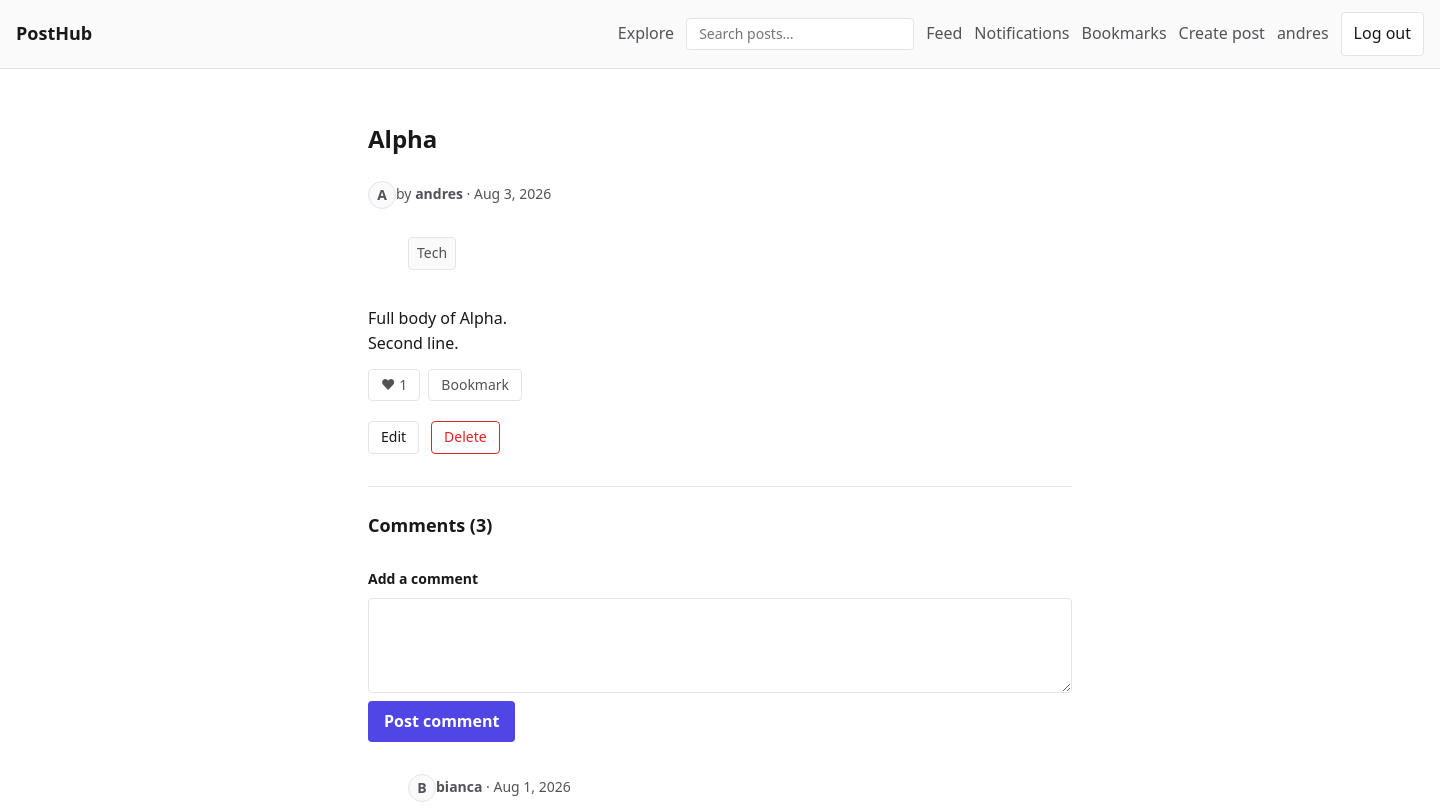
Scenario: Post detail › lets an authenticated user post a comment, which appears and bumps the count
The image size is (1440, 810).
Check: the heading "Comments (3)" is shown, box top-left (368, 513), bottom-right (492, 537)
Type "A brand new comment" into the text box labelled "Add a comment".
click(720, 645); type("A brand new comment")  # box top-left (368, 598), bottom-right (1072, 693)
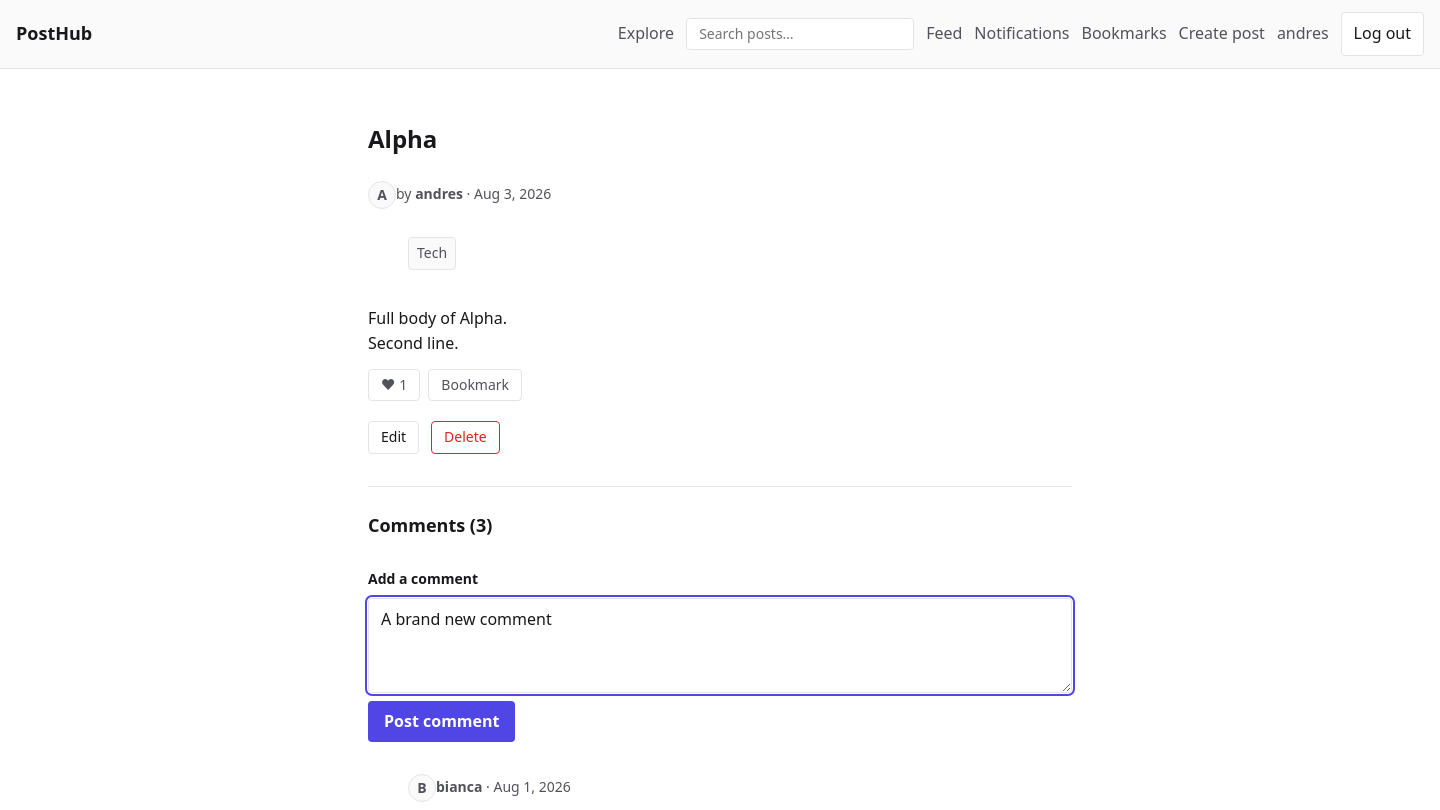
Click the button "Post comment".
click(442, 722)  # box top-left (368, 701), bottom-right (516, 742)
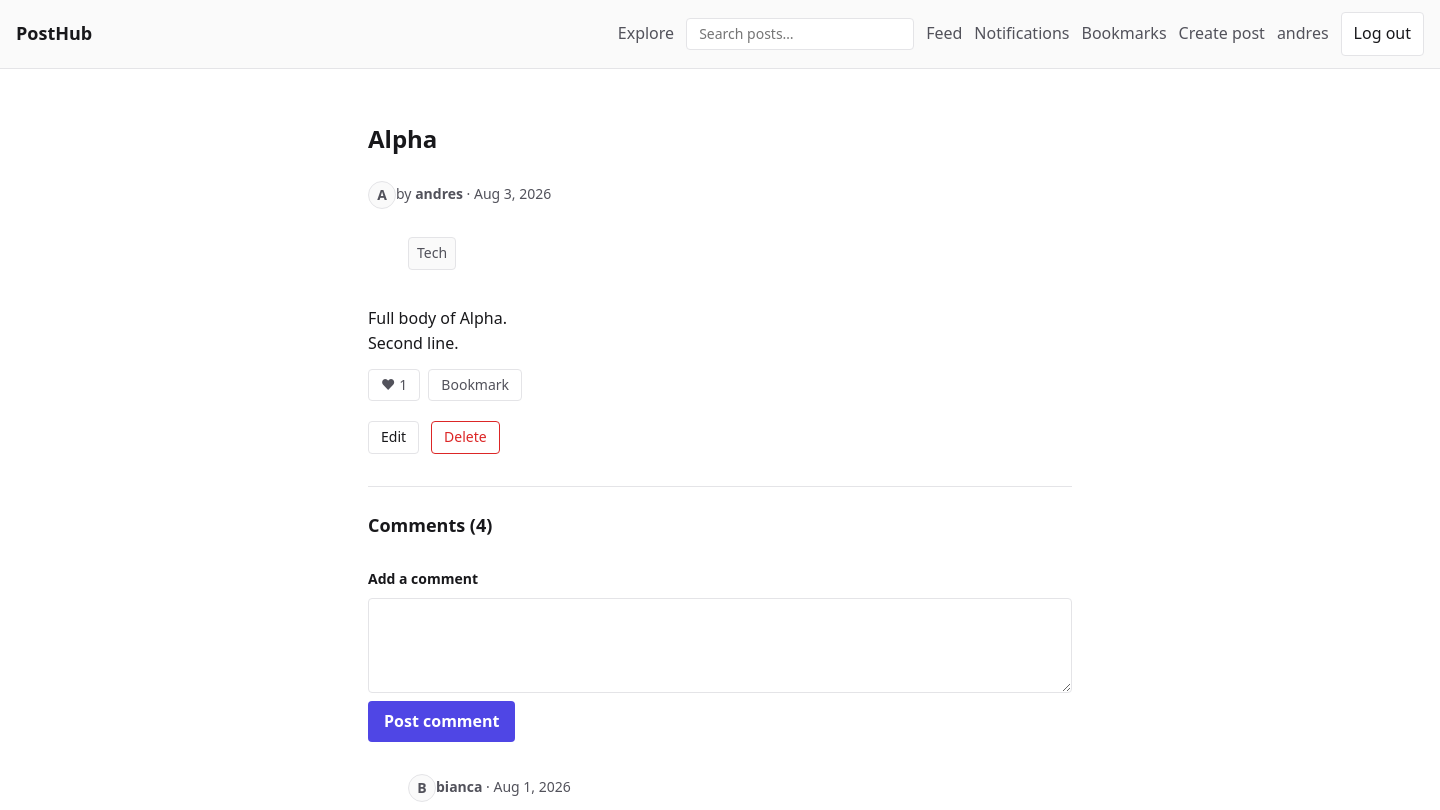
Check: the text box "A brand new comment" is shown, box top-left (368, 598), bottom-right (1072, 693)
Check: the heading "Comments (4)" is shown, box top-left (368, 513), bottom-right (492, 537)
